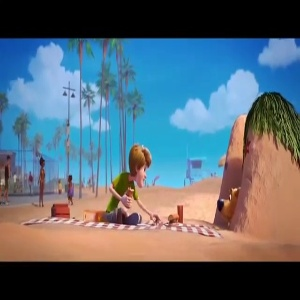Scooby: (218, 187, 241, 220)
Shagy: (121, 141, 152, 188)
